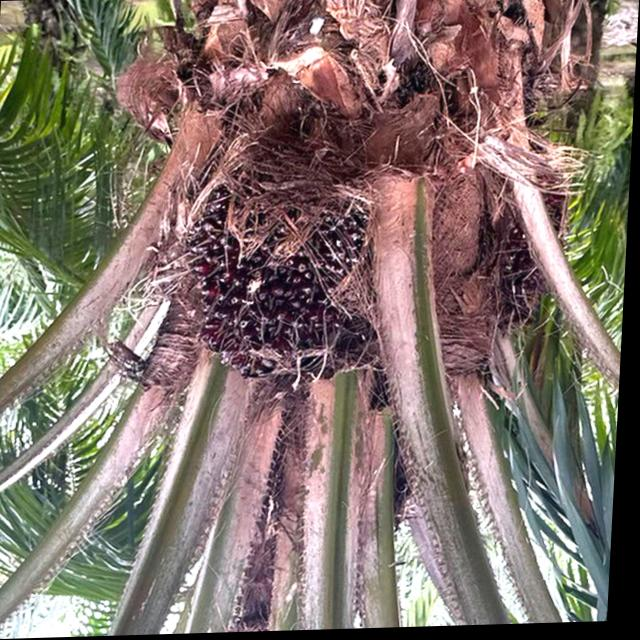ripe: (167, 166, 406, 401)
